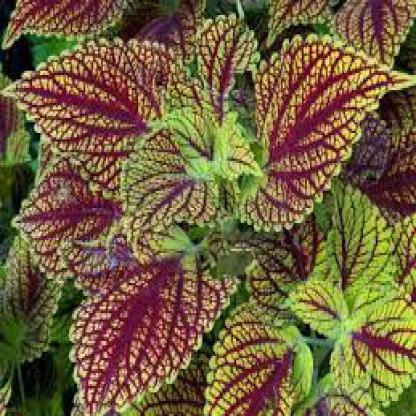Bunga Coleus: (32, 38, 396, 374)
